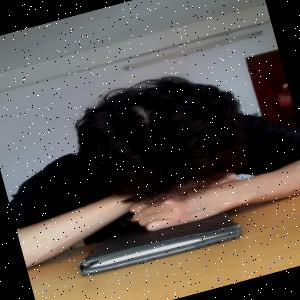sleep: (1, 46, 300, 273)
